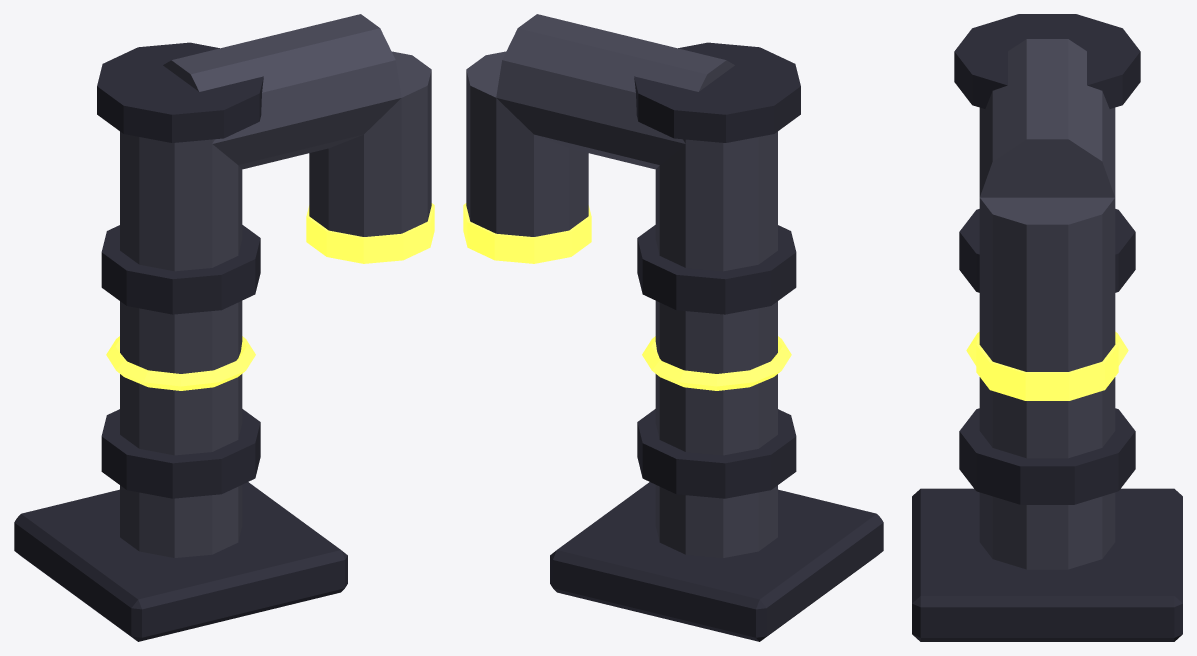
The model's file is forge_pipe.fbx.
3 views of the same model, side by side, from view 1: azimuth 30°, elevation 25°; view 2: azimuth 150°, elevation 25°; view 3: azimuth 270°, elevation 25° (orthographic). The views are drawn at different scales.
Visible parts, largest first — view 1: Forge_pipe; view 2: Forge_pipe; view 3: Forge_pipe.
Part boxes in pixels (x1,y1,x2,y2): Forge_pipe: (14, 14, 434, 641); Forge_pipe: (463, 14, 883, 641); Forge_pipe: (912, 14, 1182, 641).
Size of the model in its own units: 2.6 by 3.58 by 1.6.
